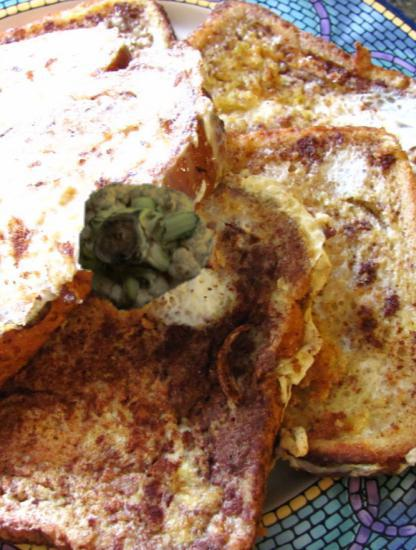Cauliflower: (77, 179, 216, 318)
